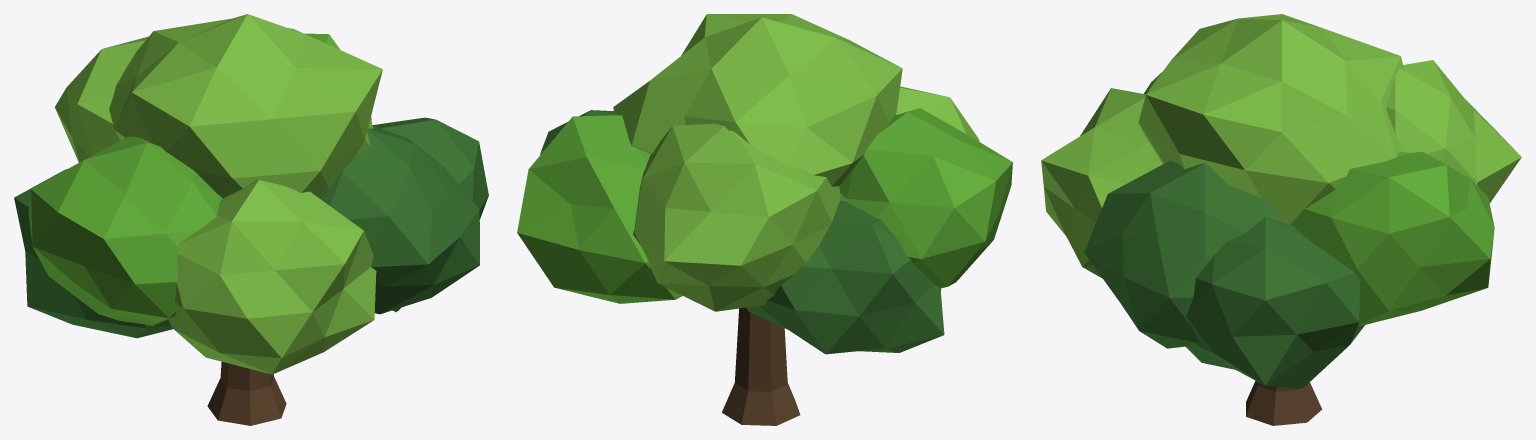
The model's file is tree_oak_1.glb.
3 views of the same model, side by side, from view 1: azimuth 30°, elevation 25°; view 2: azimuth 150°, elevation 25°; view 3: azimuth 270°, elevation 25° (orthographic).
Visible parts, largest first — view 1: tree_oak_1; view 2: tree_oak_1; view 3: tree_oak_1.
Boxes of the visible parts, <box> form: tree_oak_1: <box>14,14,488,425</box>; tree_oak_1: <box>517,14,1012,425</box>; tree_oak_1: <box>1041,14,1521,425</box>.
Size of what is drawn, in the model's own units: 8.8 by 7.49 by 8.39.
